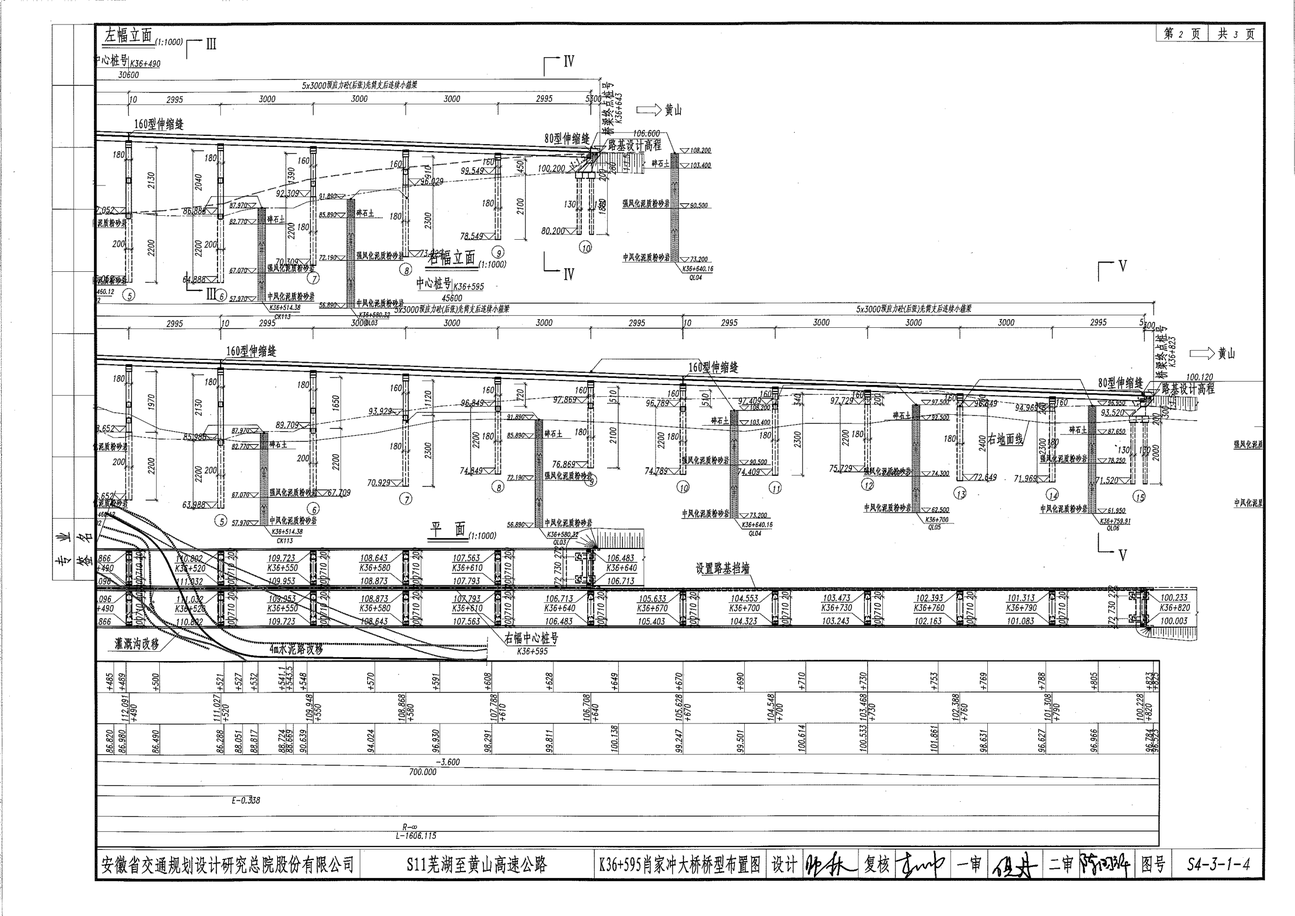A: (73, 246, 1295, 546), (79, 21, 753, 277)
